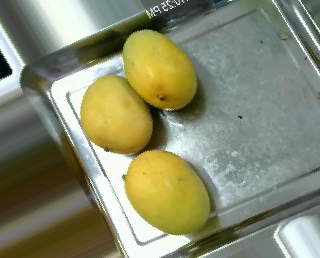Mango: (125, 150, 209, 232), (81, 74, 153, 153), (123, 29, 194, 109)
